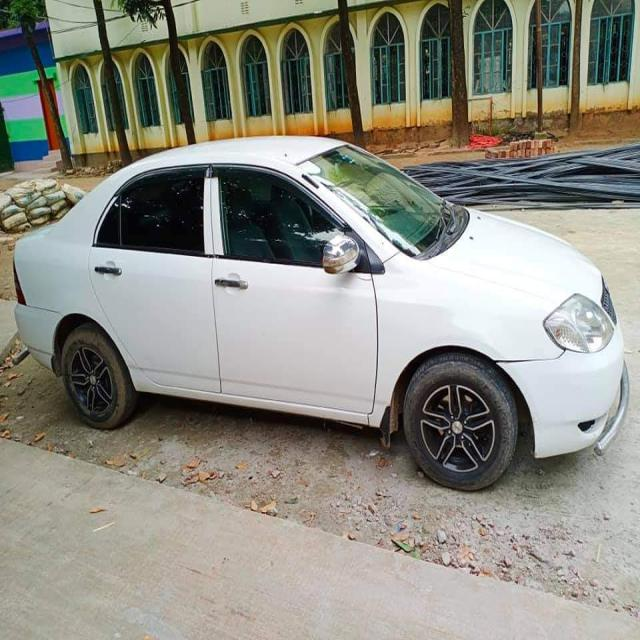white: (16, 149, 640, 475)
